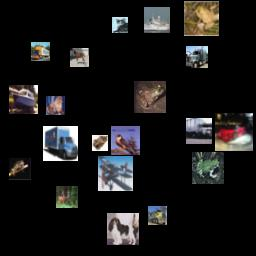airplane: (98, 156, 133, 191)
automobile: (215, 113, 253, 151)
bird: (111, 126, 140, 155)
cat: (46, 96, 65, 115), (92, 135, 108, 151), (112, 17, 128, 33)
deer: (56, 186, 78, 208)
dog: (107, 213, 139, 245)
frog: (184, 1, 219, 36), (192, 152, 224, 184), (134, 81, 166, 113), (9, 158, 31, 180)
ship: (9, 85, 38, 114), (144, 7, 170, 33)
truck: (43, 126, 78, 161), (186, 118, 212, 144), (186, 46, 208, 68), (148, 206, 167, 225), (31, 42, 50, 61)
